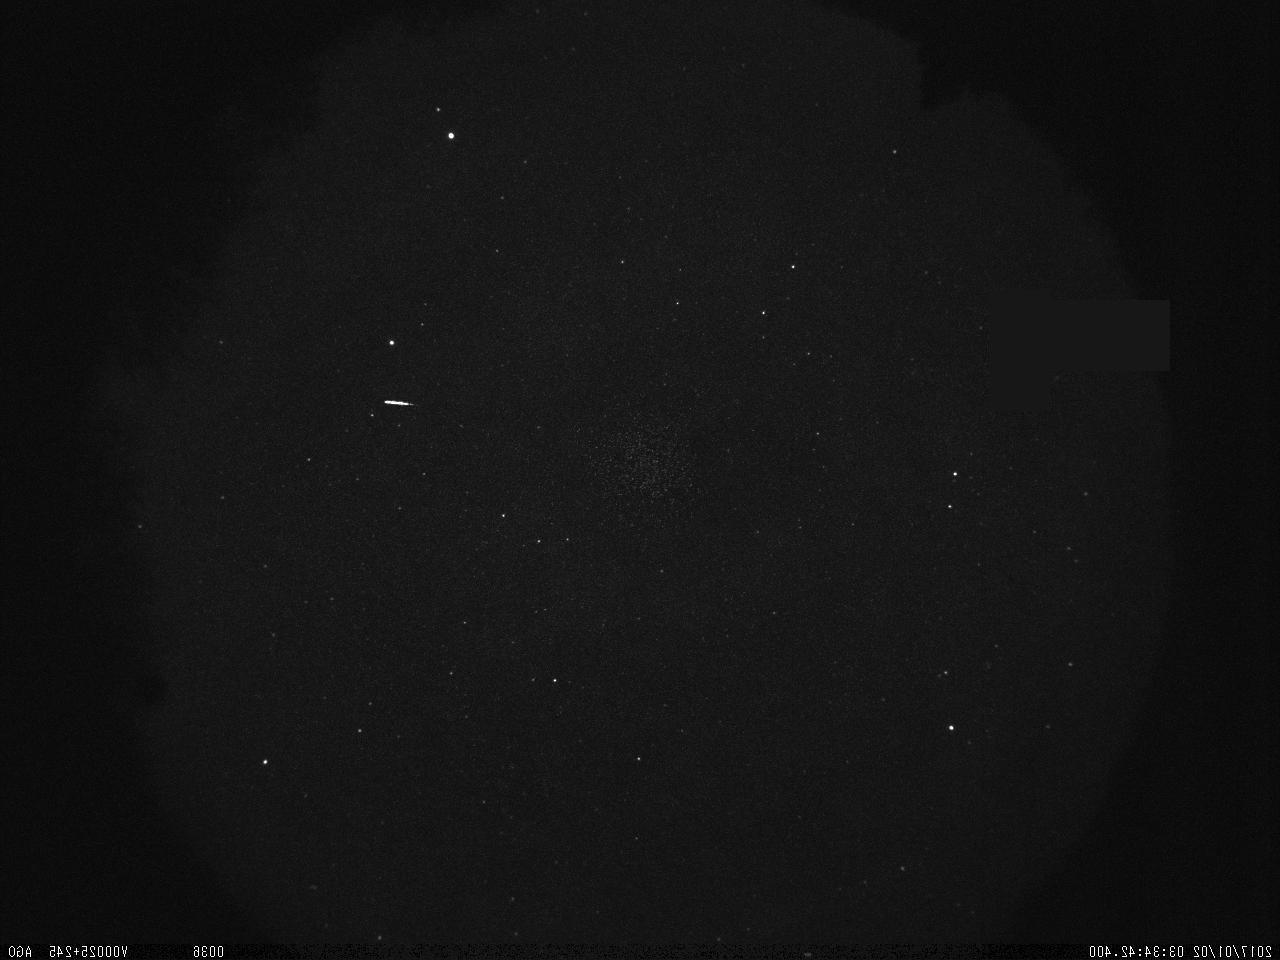meteor: (374, 387, 424, 416)
